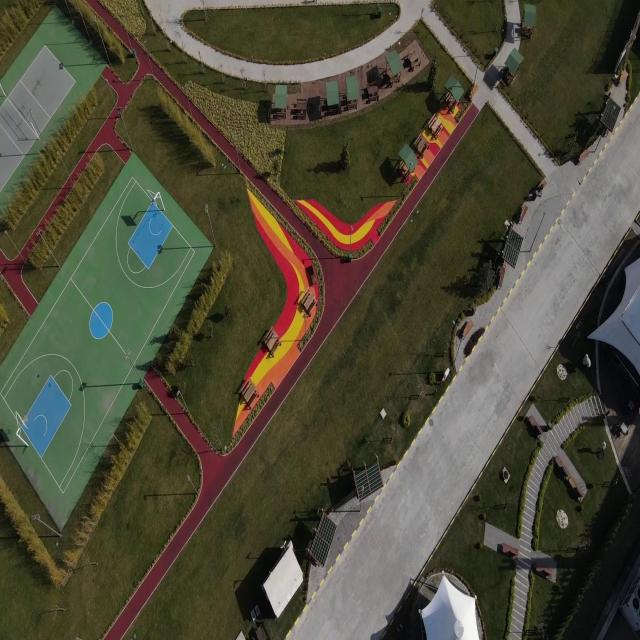p3rson: (539, 185, 544, 198)
